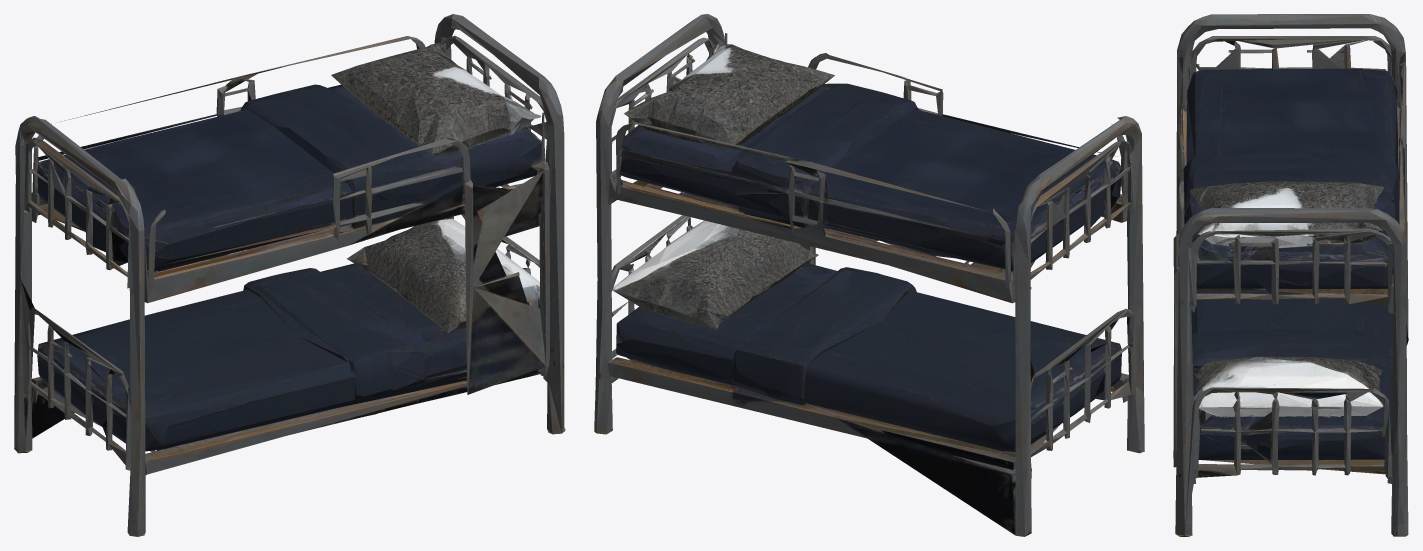
Rendered from bunk_bed.glb.
3 views of the same model, side by side, from view 1: azimuth 30°, elevation 25°; view 2: azimuth 150°, elevation 25°; view 3: azimuth 270°, elevation 25° (orthographic). The views are drawn at different scales.
Bounding box in the file's own units: 1.9 × 1.43 × 0.9359.
1 material, 1 textured.
